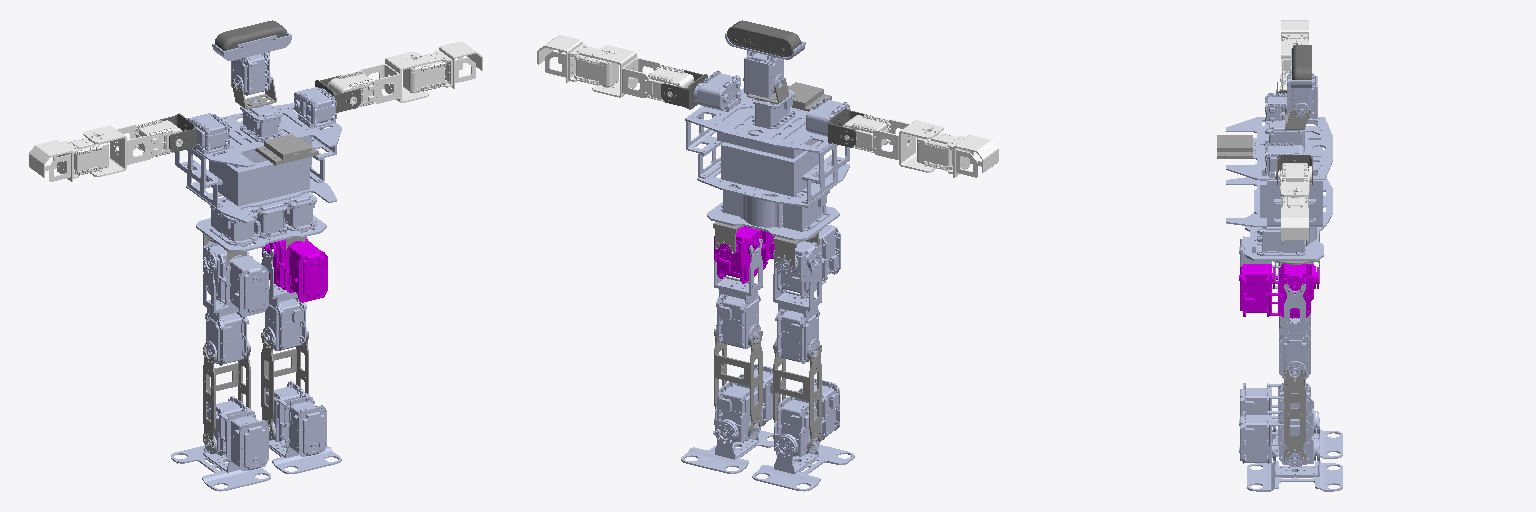
--- What the picture shows (computed from the rendered views, not written in the file) ---
3 views of the same robot in one strip: view 1: azimuth 30°, elevation 25°; view 2: azimuth 150°, elevation 25°; view 3: azimuth 270°, elevation 25° (orthographic).
Robot: robot305_description_imu — 25 links, 24 joints (21 revolute, 3 fixed); root link world; default pose: every joint at zero.
Visible links, largest first — view 1: BODY, WAIST, L_ANK_PITCH, R_ANK_PITCH, L_HIP_ROLL, L_SHO_ROLL, R_HIP_ROLL, R_SHO_ROLL, L_HIP_PITCH, L_EL, R_HIP_PITCH, R_EL (+10 smaller); view 2: BODY, WAIST, L_HIP_PITCH, R_HIP_PITCH, L_ANK_PITCH, L_SHO_ROLL, R_SHO_ROLL, L_EL, R_ANK_PITCH, L_HIP_ROLL, R_EL, L_ANK_ROLL (+11 smaller); view 3: BODY, R_HIP_ROLL, R_ANK_PITCH, R_HIP_PITCH, WAIST, R_ANK_ROLL, L_ANK_PITCH, R_KNEE, R_EL, HEAD_TILT, R_SHO_ROLL, IMU (+4 smaller).
Boxes of the visible links, x1,y1,x2,y2 form: BODY: (175, 87, 341, 222); WAIST: (196, 192, 326, 251); L_ANK_PITCH: (204, 396, 268, 470); R_ANK_PITCH: (262, 381, 326, 456); L_HIP_ROLL: (203, 241, 268, 316); L_SHO_ROLL: (83, 120, 182, 176); R_HIP_ROLL: (262, 237, 327, 302); R_SHO_ROLL: (327, 52, 428, 106); L_HIP_PITCH: (203, 255, 249, 365); L_EL: (29, 136, 108, 181); R_HIP_PITCH: (261, 247, 307, 350); R_EL: (403, 41, 482, 93); BODY: (685, 70, 850, 206); WAIST: (707, 183, 839, 240); L_HIP_PITCH: (773, 253, 821, 363); R_HIP_PITCH: (714, 239, 762, 348); L_ANK_PITCH: (774, 379, 839, 456); L_SHO_ROLL: (841, 114, 943, 172); R_SHO_ROLL: (592, 45, 693, 101); L_EL: (917, 131, 998, 177); R_ANK_PITCH: (715, 364, 780, 441); L_HIP_ROLL: (774, 225, 840, 298); R_EL: (537, 35, 618, 87); L_ANK_ROLL: (752, 443, 854, 491); BODY: (1226, 93, 1332, 226); R_HIP_ROLL: (1239, 263, 1318, 317); R_ANK_PITCH: (1239, 410, 1318, 466); R_HIP_PITCH: (1279, 284, 1310, 379); WAIST: (1245, 213, 1323, 260); R_ANK_ROLL: (1247, 444, 1342, 491); L_ANK_PITCH: (1239, 383, 1318, 433); R_KNEE: (1284, 369, 1305, 459); R_EL: (1281, 192, 1308, 242); HEAD_TILT: (1287, 49, 1317, 118); R_SHO_ROLL: (1275, 163, 1311, 207); IMU: (1217, 135, 1252, 158).
Bounding box of the posed robot: 0.6103 × 0.1598 × 0.5658 m (x, y, z).
24 mesh visuals loaded from 24 distinct referenced files (24 binary STL).

robot.urdf — robot305_description_imu:
<?xml version="1.0" encoding="utf-8"?>
<!-- This URDF was automatically created by SolidWorks to URDF Exporter! Originally created by Stephen Brawner ([email redacted]) 
     Commit Version: 1.6.0-4-g7f85cfe  Build Version: 1.6.7995.38578
     For more information, please see http://wiki.ros.org/sw_urdf_exporter -->
<robot
  name="robot305_description_imu">
  <link name="world">
  </link>

  <joint name="world_fixed" type="fixed">
    <origin xyz="0 0 0" rpy="0 0 1.5708"/>
    <parent link="world"/>
    <child link="BODY"/>
  </joint>
  <link
    name="BODY">
    <inertial>
      <origin
        xyz="-0.0089014 8.8594E-06 0.046409"
        rpy="0 0 0" />
      <mass
        value="0.68737" />
      <inertia
        ixx="0.001"
        ixy="0.0"
        ixz="0.0"
        iyy="0.001"
        iyz="0.0"
        izz="0.001" />
    </inertial>
    <visual>
      <origin
        xyz="0 0 0"
        rpy="0 0 0" />
      <geometry>
        <mesh
          filename="package://robot305_description_imu/meshes/BODY.STL" />
      </geometry>
      <material
        name="">
        <color
          rgba="0.79216 0.81961 0.93333 1" />
      </material>
    </visual>
    <collision>
      <origin
        xyz="0 0 0"
        rpy="0 0 0" />
      <geometry>
        <mesh
          filename="package://robot305_description_imu/meshes/BODY.STL" />
      </geometry>
    </collision>
  </link>
  <link
    name="HEAD_PAN">
    <inertial>
      <origin
        xyz="0.00203856931487195 3.20934481125238E-15 0.00805568439980883"
        rpy="0 0 0" />
      <mass
        value="0.00884401300499875" />
      <inertia
        ixx="0.001"
        ixy="0.0"
        ixz="0.0"
        iyy="0.001"
        iyz="0.0"
        izz="0.001" />
    </inertial>
    <visual>
      <origin
        xyz="0 0 0"
        rpy="0 0 0" />
      <geometry>
        <mesh
          filename="package://robot305_description_imu/meshes/HEAD_PAN.STL" />
      </geometry>
      <material
        name="">
        <color
          rgba="0.698039215686274 0.698039215686274 0.698039215686274 1" />
      </material>
    </visual>
    <collision>
      <origin
        xyz="0 0 0"
        rpy="0 0 0" />
      <geometry>
        <mesh
          filename="package://robot305_description_imu/meshes/HEAD_PAN.STL" />
      </geometry>
    </collision>
  </link>
  <joint
    name="head_pan"
    type="revolute">
    <origin
      xyz="0 0 0.1088"
      rpy="0 0 0" />
    <parent
      link="BODY" />
    <child
      link="HEAD_PAN" />
    <axis
      xyz="0 0 1" />
    <limit
      lower="-2.8274"
      upper="2.8274"
      effort="1000"
      velocity="100" />
    <dynamics
      damping="0.1"
      friction="0" />
  </joint>
  <link
    name="HEAD_TILT">
    <inertial>
      <origin
        xyz="0.000744248588642908 0.000567055400995601 0.0165302540119616"
        rpy="0 0 0" />
      <mass
        value="0.0589790620071985" />
      <inertia
        ixx="0.001"
        ixy="0.0"
        ixz="0.0"
        iyy="0.001"
        iyz="0.0"
        izz="0.001" />
    </inertial>
    <visual>
      <origin
        xyz="0 0 0"
        rpy="0 0 0" />
      <geometry>
        <mesh
          filename="package://robot305_description_imu/meshes/HEAD_TILT.STL" />
      </geometry>
      <material
        name="">
        <color
          rgba="0.792156862745098 0.819607843137255 0.933333333333333 1" />
      </material>
    </visual>
    <collision>
      <origin
        xyz="0 0 0"
        rpy="0 0 0" />
      <geometry>
        <mesh
          filename="package://robot305_description_imu/meshes/HEAD_TILT.STL" />
      </geometry>
    </collision>
  </link>
  <joint
    name="head_tilt"
    type="revolute">
    <origin
      xyz="0.008 0 0.0256"
      rpy="0 0 0" />
    <parent
      link="HEAD_PAN" />
    <child
      link="HEAD_TILT" />
    <axis
      xyz="0 1 0" />
    <limit
      lower="-2.8274"
      upper="2.8274"
      effort="1000"
      velocity="100" />
    <dynamics
      damping="0.1"
      friction="0" />
  </joint>
  <link
    name="Intel_D435i">
    <inertial>
      <origin
        xyz="5.86984459334042E-05 2.77438074049177E-05 2.77555756156289E-17"
        rpy="0 0 0" />
      <mass
        value="0.29999985584757" />
      <inertia
        ixx="0.001"
        ixy="0.0"
        ixz="0.0"
        iyy="0.001"
        iyz="0.0"
        izz="0.001" />
    </inertial>
    <visual>
      <origin
        xyz="0 0 0"
        rpy="0 0 0" />
      <geometry>
        <mesh
          filename="package://robot305_description_imu/meshes/Intel_D435i.STL" />
      </geometry>
      <material
        name="">
        <color
          rgba="0.501960784313725 0.501960784313725 0.501960784313725 1" />
      </material>
    </visual>
    <collision>
      <origin
        xyz="0 0 0"
        rpy="0 0 0" />
      <geometry>
        <mesh
          filename="package://robot305_description_imu/meshes/Intel_D435i.STL" />
      </geometry>
    </collision>
  </link>
  <joint
    name="d435i"
    type="fixed">
    <origin
      xyz="0.001 0.0008 0.0547"
      rpy="0 0 0" />
    <parent
      link="HEAD_TILT" />
    <child
      link="Intel_D435i" />
    <axis
      xyz="0 0 0" />
  </joint>
  <link
    name="L_SHO_PITCH">
    <inertial>
      <origin
        xyz="-0.000105678428481914 0.0103311284711402 0.000104281763278563"
        rpy="0 0 0" />
      <mass
        value="0.0170198320073435" />
      <inertia
        ixx="0.001"
        ixy="0.0"
        ixz="0.0"
        iyy="0.001"
        iyz="0.0"
        izz="0.001" />
    </inertial>
    <visual>
      <origin
        xyz="0 0 0"
        rpy="0 0 0" />
      <geometry>
        <mesh
          filename="package://robot305_description_imu/meshes/L_SHO_PITCH.STL" />
      </geometry>
      <material
        name="">
        <color
          rgba="0.501960784313725 0.501960784313725 0.501960784313725 1" />
      </material>
    </visual>
    <collision>
      <origin
        xyz="0 0 0"
        rpy="0 0 0" />
      <geometry>
        <mesh
          filename="package://robot305_description_imu/meshes/L_SHO_PITCH.STL" />
      </geometry>
    </collision>
  </link>
  <joint
    name="l_sho_pitch"
    type="revolute">
    <origin
      xyz="0 0.09514 0.093"
      rpy="0 0 0" />
    <parent
      link="BODY" />
    <child
      link="L_SHO_PITCH" />
    <axis
      xyz="0 -1 0" />
    <limit
      lower="-2.8274"
      upper="2.8274"
      effort="1000"
      velocity="100" />
    <dynamics
      damping="0.1"
      friction="0" />
  </joint>
  <link
    name="L_SHO_ROLL">
    <inertial>
      <origin
        xyz="0.000660305859717175 0.0273638889981238 -3.32496535014604E-05"
        rpy="0 0 0" />
      <mass
        value="0.0571649744384682" />
      <inertia
        ixx="0.001"
        ixy="0.0"
        ixz="0.0"
        iyy="0.001"
        iyz="0.0"
        izz="0.001" />
    </inertial>
    <visual>
      <origin
        xyz="0 0 0"
        rpy="0 0 0" />
      <geometry>
        <mesh
          filename="package://robot305_description_imu/meshes/L_SHO_ROLL.STL" />
      </geometry>
      <material
        name="">
        <color
          rgba="1 1 1 1" />
      </material>
    </visual>
    <collision>
      <origin
        xyz="0 0 0"
        rpy="0 0 0" />
      <geometry>
        <mesh
          filename="package://robot305_description_imu/meshes/L_SHO_ROLL.STL" />
      </geometry>
    </collision>
  </link>
  <joint
    name="l_sho_roll"
    type="revolute">
    <origin
      xyz="0 0.026 0"
      rpy="0 0 0" />
    <parent
      link="L_SHO_PITCH" />
    <child
      link="L_SHO_ROLL" />
    <axis
      xyz="1 0 0" />
    <limit
      lower="-2.8274"
      upper="2.8274"
      effort="1000"
      velocity="100" />
    <dynamics
      damping="0.1"
      friction="0" />
  </joint>
  <link
    name="L_EL">
    <inertial>
      <origin
        xyz="2.24244067219088E-05 0.022414568729119 0.00164214618288078"
        rpy="0 0 0" />
      <mass
        value="0.0564633803591698" />
      <inertia
        ixx="0.001"
        ixy="0.0"
        ixz="0.0"
        iyy="0.001"
        iyz="0.0"
        izz="0.001" />
    </inertial>
    <visual>
      <origin
        xyz="0 0 0"
        rpy="0 0 0" />
      <geometry>
        <mesh
          filename="package://robot305_description_imu/meshes/L_EL.STL" />
      </geometry>
      <material
        name="">
        <color
          rgba="1 1 1 1" />
      </material>
    </visual>
    <collision>
      <origin
        xyz="0 0 0"
        rpy="0 0 0" />
      <geometry>
        <mesh
          filename="package://robot305_description_imu/meshes/L_EL.STL" />
      </geometry>
    </collision>
  </link>
  <joint
    name="l_el"
    type="revolute">
    <origin
      xyz="6E-05 0.099 0"
      rpy="0 0 0" />
    <parent
      link="L_SHO_ROLL" />
    <child
      link="L_EL" />
    <axis
      xyz="0 0 -1" />
    <limit
      lower="-2.8274"
      upper="2.8274"
      effort="1000"
      velocity="100" />
    <dynamics
      damping="0.1"
      friction="0" />
  </joint>
  <link
    name="R_SHO_PITCH">
    <inertial>
      <origin
        xyz="-0.000104621547146841 -0.0103311265166709 0.000104270870135023"
        rpy="0 0 0" />
      <mass
        value="0.0170198425040673" />
      <inertia
        ixx="0.001"
        ixy="0.0"
        ixz="0.0"
        iyy="0.001"
        iyz="0.0"
        izz="0.001" />
    </inertial>
    <visual>
      <origin
        xyz="0 0 0"
        rpy="0 0 0" />
      <geometry>
        <mesh
          filename="package://robot305_description_imu/meshes/R_SHO_PITCH.STL" />
      </geometry>
      <material
        name="">
        <color
          rgba="0.501960784313725 0.501960784313725 0.501960784313725 1" />
      </material>
    </visual>
    <collision>
      <origin
        xyz="0 0 0"
        rpy="0 0 0" />
      <geometry>
        <mesh
          filename="package://robot305_description_imu/meshes/R_SHO_PITCH.STL" />
      </geometry>
    </collision>
  </link>
  <joint
    name="r_sho_pitch"
    type="revolute">
    <origin
      xyz="0 -0.09514 0.093"
      rpy="0 0 0" />
    <parent
      link="BODY" />
    <child
      link="R_SHO_PITCH" />
    <axis
      xyz="0 -1 0" />
    <limit
      lower="-2.8274"
      upper="2.8274"
      effort="1000"
      velocity="100" />
    <dynamics
      damping="0.1"
      friction="0" />
  </joint>
  <link
    name="R_SHO_ROLL">
    <inertial>
      <origin
        xyz="0.000660305859719581 -0.0273638889976491 1.1047673555642E-05"
        rpy="0 0 0" />
      <mass
        value="0.0571649744384682" />
      <inertia
        ixx="0.001"
        ixy="0.0"
        ixz="0.0"
        iyy="0.001"
        iyz="0.0"
        izz="0.001" />
    </inertial>
    <visual>
      <origin
        xyz="0 0 0"
        rpy="0 0 0" />
      <geometry>
        <mesh
          filename="package://robot305_description_imu/meshes/R_SHO_ROLL.STL" />
      </geometry>
      <material
        name="">
        <color
          rgba="1 1 1 1" />
      </material>
    </visual>
    <collision>
      <origin
        xyz="0 0 0"
        rpy="0 0 0" />
      <geometry>
        <mesh
          filename="package://robot305_description_imu/meshes/R_SHO_ROLL.STL" />
      </geometry>
    </collision>
  </link>
  <joint
    name="r_sho_roll"
    type="revolute">
    <origin
      xyz="0 -0.026 0"
      rpy="0 0 0" />
    <parent
      link="R_SHO_PITCH" />
    <child
      link="R_SHO_ROLL" />
    <axis
      xyz="1 0 0" />
    <limit
      lower="-2.8274"
      upper="2.8274"
      effort="1000"
      velocity="100" />
    <dynamics
      damping="0.1"
      friction="0" />
  </joint>
  <link
    name="R_EL">
    <inertial>
      <origin
        xyz="-2.24240727187515E-05 -0.0224145687294529 0.00164214618288087"
        rpy="0 0 0" />
      <mass
        value="0.0564633803591696" />
      <inertia
        ixx="0.001"
        ixy="0.0"
        ixz="0.0"
        iyy="0.001"
        iyz="0.0"
        izz="0.001" />
    </inertial>
    <visual>
      <origin
        xyz="0 0 0"
        rpy="0 0 0" />
      <geometry>
        <mesh
          filename="package://robot305_description_imu/meshes/R_EL.STL" />
      </geometry>
      <material
        name="">
        <color
          rgba="1 1 1 1" />
      </material>
    </visual>
    <collision>
      <origin
        xyz="0 0 0"
        rpy="0 0 0" />
      <geometry>
        <mesh
          filename="package://robot305_description_imu/meshes/R_EL.STL" />
      </geometry>
    </collision>
  </link>
  <joint
    name="r_el"
    type="revolute">
    <origin
      xyz="6E-05 -0.099 0"
      rpy="0 0 0" />
    <parent
      link="R_SHO_ROLL" />
    <child
      link="R_EL" />
    <axis
      xyz="0 0 -1" />
    <limit
      lower="-2.8274"
      upper="2.8274"
      effort="1000"
      velocity="100" />
    <dynamics
      damping="0.1"
      friction="0" />
  </joint>
  <link
    name="WAIST">
    <inertial>
      <origin
        xyz="-0.023228 -1.6764E-07 -0.032821"
        rpy="0 0 0" />
      <mass
        value="0.25814" />
      <inertia
        ixx="0.001"
        ixy="0.0"
        ixz="0.0"
        iyy="0.001"
        iyz="0.0"
        izz="0.001" />
    </inertial>
    <visual>
      <origin
        xyz="0 0 0"
        rpy="0 0 0" />
      <geometry>
        <mesh
          filename="package://robot305_description_imu/meshes/WAIST.STL" />
      </geometry>
      <material
        name="">
        <color
          rgba="0.79216 0.81961 0.93333 1" />
      </material>
    </visual>
    <collision>
      <origin
        xyz="0 0 0"
        rpy="0 0 0" />
      <geometry>
        <mesh
          filename="package://robot305_description_imu/meshes/WAIST.STL" />
      </geometry>
    </collision>
  </link>
  <joint
    name="waist"
    type="revolute">
    <origin
      xyz="0.01 0 0"
      rpy="0 0 0" />
    <parent
      link="BODY" />
    <child
      link="WAIST" />
    <axis
      xyz="0 0 1" />
    <limit
      lower="-2.8274"
      upper="2.8274"
      effort="1000"
      velocity="100" />
    <dynamics
      damping="0.1"
      friction="0" />
  </joint>
  <link
    name="L_HIP_YAW">
    <inertial>
      <origin
        xyz="0.0020262 -6.8547E-13 -0.0089335"
        rpy="0 0 0" />
      <mass
        value="0.022437" />
      <inertia
        ixx="0.001"
        ixy="0.0"
        ixz="0.0"
        iyy="0.001"
        iyz="0.0"
        izz="0.001" />
    </inertial>
    <visual>
      <origin
        xyz="0 0 0"
        rpy="0 0 0" />
      <geometry>
        <mesh
          filename="package://robot305_description_imu/meshes/L_HIP_YAW.STL" />
      </geometry>
      <material
        name="">
        <color
          rgba="0.69804 0.69804 0.69804 1" />
      </material>
    </visual>
    <collision>
      <origin
        xyz="0 0 0"
        rpy="0 0 0" />
      <geometry>
        <mesh
          filename="package://robot305_description_imu/meshes/L_HIP_YAW.STL" />
      </geometry>
    </collision>
  </link>
  <joint
    name="l_hip_yaw"
    type="revolute">
    <origin
      xyz="-0.01 0.041 -0.0537"
      rpy="0 0 0" />
    <parent
      link="WAIST" />
    <child
      link="L_HIP_YAW" />
    <axis
      xyz="0 0 1" />
    <limit
      lower="-2.8274"
      upper="2.8274"
      effort="1000"
      velocity="100" />
    <dynamics
      damping="0.1"
      friction="0" />
  </joint>
  <link
    name="L_HIP_ROLL">
    <inertial>
      <origin
        xyz="-0.022368 -4.6127E-05 -0.014708"
        rpy="0 0 0" />
      <mass
        value="0.15426" />
      <inertia
        ixx="0.001"
        ixy="0.0"
        ixz="0.0"
        iyy="0.001"
        iyz="0.0"
        izz="0.001" />
    </inertial>
    <visual>
      <origin
        xyz="0 0 0"
        rpy="0 0 0" />
      <geometry>
        <mesh
          filename="package://robot305_description_imu/meshes/L_HIP_ROLL.STL" />
      </geometry>
      <material
        name="">
        <color
          rgba="0.79216 0.81961 0.93333 1" />
      </material>
    </visual>
    <collision>
      <origin
        xyz="0 0 0"
        rpy="0 0 0" />
      <geometry>
        <mesh
          filename="package://robot305_description_imu/meshes/L_HIP_ROLL.STL" />
      </geometry>
    </collision>
  </link>
  <joint
    name="l_hip_roll"
    type="revolute">
    <origin
      xyz="0 0 -0.0345"
      rpy="0 0 0" />
    <parent
      link="L_HIP_YAW" />
    <child
      link="L_HIP_ROLL" />
    <axis
      xyz="1 0 0" />
    <limit
      lower="-2.8274"
      upper="2.8274"
      effort="1000"
      velocity="100" />
    <dynamics
      damping="0.1"
      friction="0" />
  </joint>
  <link
    name="L_HIP_PITCH">
    <inertial>
      <origin
        xyz="-3.436E-06 -0.00020124 -0.09746"
        rpy="0 0 0" />
      <mass
        value="0.085906" />
      <inertia
        ixx="0.001"
        ixy="0.0"
        ixz="0.0"
        iyy="0.001"
        iyz="0.0"
        izz="0.001" />
    </inertial>
    <visual>
      <origin
        xyz="0 0 0"
        rpy="0 0 0" />
      <geometry>
        <mesh
          filename="package://robot305_description_imu/meshes/L_HIP_PITCH.STL" />
      </geometry>
      <material
        name="">
        <color
          rgba="0.79216 0.81961 0.93333 1" />
      </material>
    </visual>
    <collision>
      <origin
        xyz="0 0 0"
        rpy="0 0 0" />
      <geometry>
        <mesh
          filename="package://robot305_description_imu/meshes/L_HIP_PITCH.STL" />
      </geometry>
    </collision>
  </link>
  <joint
    name="l_hip_pitch"
    type="revolute">
    <origin
      xyz="0 0 0"
      rpy="0 0 0.01704" />
    <parent
      link="L_HIP_ROLL" />
    <child
      link="L_HIP_PITCH" />
    <axis
      xyz="0.017039 0.99985 0" />
    <limit
      lower="-2.8274"
      upper="2.8274"
      effort="1000"
      velocity="100" />
    <dynamics
      damping="0.1"
      friction="0" />
  </joint>
  <link
    name="L_KNEE">
    <inertial>
      <origin
        xyz="0.0021571 -0.0004 -0.057639"
        rpy="0 0 0" />
      <mass
        value="0.03206" />
      <inertia
        ixx="0.001"
        ixy="0.0"
        ixz="0.0"
        iyy="0.001"
        iyz="0.0"
        izz="0.001" />
    </inertial>
    <visual>
      <origin
        xyz="0 0 0"
        rpy="0 0 0" />
      <geometry>
        <mesh
          filename="package://robot305_description_imu/meshes/L_KNEE.STL" />
      </geometry>
      <material
        name="">
        <color
          rgba="0.69804 0.69804 0.69804 1" />
      </material>
    </visual>
    <collision>
      <origin
        xyz="0 0 0"
        rpy="0 0 0" />
      <geometry>
        <mesh
          filename="package://robot305_description_imu/meshes/L_KNEE.STL" />
      </geometry>
    </collision>
  </link>
  <joint
    name="l_knee"
    type="revolute">
    <origin
      xyz="0 0 -0.12"
      rpy="0 0 -0.01704" />
    <parent
      link="L_HIP_PITCH" />
    <child
      link="L_KNEE" />
    <axis
      xyz="0 -1 0" />
    <limit
      lower="-2.8274"
      upper="2.8274"
      effort="1000"
      velocity="100" />
    <dynamics
      damping="0.1"
      friction="0" />
  </joint>
  <link
    name="L_ANK_PITCH">
    <inertial>
      <origin
        xyz="-0.022368 -0.00025407 0.014708"
        rpy="0 0 0" />
      <mass
        value="0.15426" />
      <inertia
        ixx="0.001"
        ixy="0.0"
        ixz="0.0"
        iyy="0.001"
        iyz="0.0"
        izz="0.001" />
    </inertial>
    <visual>
      <origin
        xyz="0 0 0"
        rpy="0 0 0" />
      <geometry>
        <mesh
          filename="package://robot305_description_imu/meshes/L_ANK_PITCH.STL" />
      </geometry>
      <material
        name="">
        <color
          rgba="0.79216 0.81961 0.93333 1" />
      </material>
    </visual>
    <collision>
      <origin
        xyz="0 0 0"
        rpy="0 0 0" />
      <geometry>
        <mesh
          filename="package://robot305_description_imu/meshes/L_ANK_PITCH.STL" />
      </geometry>
    </collision>
  </link>
  <joint
    name="l_ank_pitch"
    type="revolute">
    <origin
      xyz="0 0 -0.12"
      rpy="0 0 0" />
    <parent
      link="L_KNEE" />
    <child
      link="L_ANK_PITCH" />
    <axis
      xyz="0 1 0" />
    <limit
      lower="-2.8274"
      upper="2.8274"
      effort="1000"
      velocity="100" />
    <dynamics
      damping="0.1"
      friction="0" />
  </joint>
  <link
    name="L_ANK_ROLL">
    <inertial>
      <origin
        xyz="0.00024893 0.004754 -0.030898"
        rpy="0 0 0" />
      <mass
        value="0.018474" />
      <inertia
        ixx="0.001"
        ixy="0.0"
        ixz="0.0"
        iyy="0.001"
        iyz="0.0"
        izz="0.001" />
    </inertial>
    <visual>
      <origin
        xyz="0 0 0"
        rpy="0 0 0" />
      <geometry>
        <mesh
          filename="package://robot305_description_imu/meshes/L_ANK_ROLL.STL" />
      </geometry>
      <material
        name="">
        <color
          rgba="0.79216 0.81961 0.93333 1" />
      </material>
    </visual>
    <collision>
      <origin
        xyz="0 0 0"
        rpy="0 0 0" />
      <geometry>
        <mesh
          filename="package://robot305_description_imu/meshes/L_ANK_ROLL.STL" />
      </geometry>
    </collision>
  </link>
  <joint
    name="l_ank_roll"
    type="revolute">
    <origin
      xyz="0 0 0"
      rpy="0 0 0" />
    <parent
      link="L_ANK_PITCH" />
    <child
      link="L_ANK_ROLL" />
    <axis
      xyz="1 0 0" />
    <limit
      lower="-2.8274"
      upper="2.8274"
      effort="1000"
      velocity="100" />
    <dynamics
      damping="0.1"
      friction="0" />
  </joint>
  <link
    name="R_HIP_YAW">
    <inertial>
      <origin
        xyz="0.0020262 -6.8548E-13 -0.0089335"
        rpy="0 0 0" />
      <mass
        value="0.022437" />
      <inertia
        ixx="0.001"
        ixy="0.0"
        ixz="0.0"
        iyy="0.001"
        iyz="0.0"
        izz="0.001" />
    </inertial>
    <visual>
      <origin
        xyz="0 0 0"
        rpy="0 0 0" />
      <geometry>
        <mesh
          filename="package://robot305_description_imu/meshes/R_HIP_YAW.STL" />
      </geometry>
      <material
        name="">
        <color
          rgba="0.69804 0.69804 0.69804 1" />
      </material>
    </visual>
    <collision>
      <origin
        xyz="0 0 0"
        rpy="0 0 0" />
      <geometry>
        <mesh
          filename="package://robot305_description_imu/meshes/R_HIP_YAW.STL" />
      </geometry>
    </collision>
  </link>
  <joint
    name="r_hip_yaw"
    type="revolute">
    <origin
      xyz="-0.01 -0.041 -0.0537"
      rpy="0 0 0" />
    <parent
      link="WAIST" />
    <child
      link="R_HIP_YAW" />
    <axis
      xyz="0 0 1" />
    <limit
      lower="-2.8274"
      upper="2.8274"
      effort="1000"
      velocity="100" />
    <dynamics
      damping="0.1"
      friction="0" />
  </joint>
  <link
    name="R_HIP_ROLL">
    <inertial>
      <origin
        xyz="-0.022368 4.6168E-05 -0.014708"
        rpy="0 0 0" />
      <mass
        value="0.15426" />
      <inertia
        ixx="0.001"
        ixy="0.0"
        ixz="0.0"
        iyy="0.001"
        iyz="0.0"
        izz="0.001" />
    </inertial>
    <visual>
      <origin
        xyz="0 0 0"
        rpy="0 0 0" />
      <geometry>
        <mesh
          filename="package://robot305_description_imu/meshes/R_HIP_ROLL.STL" />
      </geometry>
      <material
        name="">
        <color
          rgba="0.9098 0 1 1" />
      </material>
    </visual>
    <collision>
      <origin
        xyz="0 0 0"
        rpy="0 0 0" />
      <geometry>
        <mesh
          filename="package://robot305_description_imu/meshes/R_HIP_ROLL.STL" />
      </geometry>
    </collision>
  </link>
  <joint
    name="r_hip_roll"
    type="revolute">
    <origin
      xyz="0 0 -0.0345"
      rpy="0 0 0" />
    <parent
      link="R_HIP_YAW" />
    <child
      link="R_HIP_ROLL" />
    <axis
      xyz="1 0 0" />
    <limit
      lower="-2.8274"
      upper="2.8274"
      effort="1000"
      velocity="100" />
    <dynamics
      damping="0.1"
      friction="0" />
  </joint>
  <link
    name="R_HIP_PITCH">
    <inertial>
      <origin
        xyz="-3.4229E-06 0.00020124 -0.09746"
        rpy="0 0 0" />
      <mass
        value="0.085906" />
      <inertia
        ixx="0.001"
        ixy="0.0"
        ixz="0.0"
        iyy="0.001"
        iyz="0.0"
        izz="0.001" />
    </inertial>
    <visual>
      <origin
        xyz="0 0 0"
        rpy="0 0 0" />
      <geometry>
        <mesh
          filename="package://robot305_description_imu/meshes/R_HIP_PITCH.STL" />
      </geometry>
      <material
        name="">
        <color
          rgba="0.79216 0.81961 0.93333 1" />
      </material>
    </visual>
    <collision>
      <origin
        xyz="0 0 0"
        rpy="0 0 0" />
      <geometry>
        <mesh
          filename="package://robot305_description_imu/meshes/R_HIP_PITCH.STL" />
      </geometry>
    </collision>
  </link>
  <joint
    name="r_hip_pitch"
    type="revolute">
    <origin
      xyz="0 0 0"
      rpy="0 0 -0.01704" />
    <parent
      link="R_HIP_ROLL" />
    <child
      link="R_HIP_PITCH" />
    <axis
      xyz="-0.017039 0.99985 0" />
    <limit
      lower="-2.8274"
      upper="2.8274"
      effort="1000"
      velocity="100" />
    <dynamics
      damping="0.1"
      friction="0" />
  </joint>
  <link
    name="R_KNEE">
    <inertial>
      <origin
        xyz="0.0021571 0.0004 -0.057639"
        rpy="0 0 0" />
      <mass
        value="0.03206" />
      <inertia
        ixx="0.001"
        ixy="0.0"
        ixz="0.0"
        iyy="0.001"
        iyz="0.0"
        izz="0.001" />
    </inertial>
    <visual>
      <origin
        xyz="0 0 0"
        rpy="0 0 0" />
      <geometry>
        <mesh
          filename="package://robot305_description_imu/meshes/R_KNEE.STL" />
      </geometry>
      <material
        name="">
        <color
          rgba="0.69804 0.69804 0.69804 1" />
      </material>
    </visual>
    <collision>
      <origin
        xyz="0 0 0"
        rpy="0 0 0" />
      <geometry>
        <mesh
          filename="package://robot305_description_imu/meshes/R_KNEE.STL" />
      </geometry>
    </collision>
  </link>
  <joint
    name="r_knee"
    type="revolute">
    <origin
      xyz="0 0 -0.12"
      rpy="0 0 0.01704" />
    <parent
      link="R_HIP_PITCH" />
    <child
      link="R_KNEE" />
    <axis
      xyz="0 -1 0" />
    <limit
      lower="-2.8274"
      upper="2.8274"
      effort="1000"
      velocity="100" />
    <dynamics
      damping="0.1"
      friction="0" />
  </joint>
  <link
    name="R_ANK_PITCH">
    <inertial>
      <origin
        xyz="-0.022368 0.00024661 0.014708"
        rpy="0 0 0" />
      <mass
        value="0.15426" />
      <inertia
        ixx="0.001"
        ixy="0.0"
        ixz="0.0"
        iyy="0.001"
        iyz="0.0"
        izz="0.001" />
    </inertial>
    <visual>
      <origin
        xyz="0 0 0"
        rpy="0 0 0" />
      <geometry>
        <mesh
          filename="package://robot305_description_imu/meshes/R_ANK_PITCH.STL" />
      </geometry>
      <material
        name="">
        <color
          rgba="0.79216 0.81961 0.93333 1" />
      </material>
    </visual>
    <collision>
      <origin
        xyz="0 0 0"
        rpy="0 0 0" />
      <geometry>
        <mesh
          filename="package://robot305_description_imu/meshes/R_ANK_PITCH.STL" />
      </geometry>
    </collision>
  </link>
  <joint
    name="r_ank_pitch"
    type="revolute">
    <origin
      xyz="0 0 -0.12"
      rpy="0 0 0" />
    <parent
      link="R_KNEE" />
    <child
      link="R_ANK_PITCH" />
    <axis
      xyz="0 -1 0" />
    <limit
      lower="-2.8274"
      upper="2.8274"
      effort="1000"
      velocity="100" />
    <dynamics
      damping="0.1"
      friction="0" />
  </joint>
  <link
    name="R_ANK_ROLL">
    <inertial>
      <origin
        xyz="0.00024893 -0.004954 -0.030898"
        rpy="0 0 0" />
      <mass
        value="0.018474" />
      <inertia
        ixx="0.001"
        ixy="0.0"
        ixz="0.0"
        iyy="0.001"
        iyz="0.0"
        izz="0.001" />
    </inertial>
    <visual>
      <origin
        xyz="0 0 0"
        rpy="0 0 0" />
      <geometry>
        <mesh
          filename="package://robot305_description_imu/meshes/R_ANK_ROLL.STL" />
      </geometry>
      <material
        name="">
        <color
          rgba="0.79216 0.81961 0.93333 1" />
      </material>
    </visual>
    <collision>
      <origin
        xyz="0 0 0"
        rpy="0 0 0" />
      <geometry>
        <mesh
          filename="package://robot305_description_imu/meshes/R_ANK_ROLL.STL" />
      </geometry>
    </collision>
  </link>
  <joint
    name="r_ank_roll"
    type="revolute">
    <origin
      xyz="0 0 0"
      rpy="0 0 0" />
    <parent
      link="R_ANK_PITCH" />
    <child
      link="R_ANK_ROLL" />
    <axis
      xyz="1 0 0" />
    <limit
      lower="-2.8274"
      upper="2.8274"
      effort="1000"
      velocity="100" />
    <dynamics
      damping="0.1"
      friction="0" />
  </joint>
  <link
    name="IMU">
    <inertial>
      <origin
        xyz="4.39830229850696E-05 -7.48016657764117E-18 0.00523062431007427"
        rpy="0 0 0" />
      <mass
        value="0.0468998869628787" />
      <inertia
        ixx="0.001"
        ixy="0.0"
        ixz="0.0"
        iyy="0.001"
        iyz="0.0"
        izz="0.001" />
    </inertial>
    <visual>
      <origin
        xyz="0 0 0"
        rpy="0 0 0" />
      <geometry>
        <mesh
          filename="package://robot305_description_imu/meshes/IMU.STL" />
      </geometry>
      <material
        name="">
        <color
          rgba="0.698039215686274 0.698039215686274 0.698039215686274 1" />
      </material>
    </visual>
    <collision>
      <origin
        xyz="0 0 0"
        rpy="0 0 0" />
      <geometry>
        <mesh
          filename="package://robot305_description_imu/meshes/IMU.STL" />
      </geometry>
    </collision>
  </link>
  <joint
    name="imu"
    type="fixed">
    <origin
      xyz="-0.076 0 0.072"
      rpy="0 0 0" />
    <parent
      link="BODY" />
    <child
      link="IMU" />
    <axis
      xyz="0 0 0" />
  </joint>

<gazebo>
    <plugin filename="libgazebo_ros_control.so" name="gazebo_ros_control">
      <robotNamespace>/robot305</robotNamespace>
    </plugin>
  </gazebo>




   <transmission name="t_head_pan">
    <type>transmission_interface/SimpleTransmission</type>
    <joint name="head_pan">
      <hardwareInterface>hardware_interface/EffortJointInterface</hardwareInterface>
    </joint>
    <actuator name="m_head_pan">
      <hardwareInterface>hardware_interface/EffortJointInterface</hardwareInterface>
      <mechanicalReduction>1</mechanicalReduction>
    </actuator>
  </transmission>


   <transmission name="t_head_tilt">
    <type>transmission_interface/SimpleTransmission</type>
    <joint name="head_tilt">
      <hardwareInterface>hardware_interface/EffortJointInterface</hardwareInterface>
    </joint>
    <actuator name="m_head_tilt">
      <hardwareInterface>hardware_interface/EffortJointInterface</hardwareInterface>
      <mechanicalReduction>1</mechanicalReduction>
    </actuator>
  </transmission>


   <transmission name="t_l_sho_pitch">
    <type>transmission_interface/SimpleTransmission</type>
    <joint name="l_sho_pitch">
      <hardwareInterface>hardware_interface/EffortJointInterface</hardwareInterface>
    </joint>
    <actuator name="m_l_sho_pitch">
      <hardwareInterface>hardware_interface/EffortJointInterface</hardwareInterface>
      <mechanicalReduction>1</mechanicalReduction>
    </actuator>
  </transmission>


   <transmission name="t_l_sho_roll">
    <type>transmission_interface/SimpleTransmission</type>
    <joint name="l_sho_roll">
      <hardwareInterface>hardware_interface/EffortJointInterface</hardwareInterface>
    </joint>
    <actuator name="m_l_sho_roll">
      <hardwareInterface>hardware_interface/EffortJointInterface</hardwareInterface>
      <mechanicalReduction>1</mechanicalReduction>
    </actuator>
  </transmission>


   <transmission name="t_l_el">
    <type>transmission_interface/SimpleTransmission</type>
    <joint name="l_el">
      <hardwareInterface>hardware_interface/EffortJointInterface</hardwareInterface>
    </joint>
    <actuator name="m_l_el">
      <hardwareInterface>hardware_interface/EffortJointInterface</hardwareInterface>
      <mechanicalReduction>1</mechanicalReduction>
    </actuator>
  </transmission>


   <transmission name="t_r_sho_pitch">
    <type>transmission_interface/SimpleTransmission</type>
    <joint name="r_sho_pitch">
      <hardwareInterface>hardware_interface/EffortJointInterface</hardwareInterface>
    </joint>
    <actuator name="m_r_sho_pitch">
      <hardwareInterface>hardware_interface/EffortJointInterface</hardwareInterface>
      <mechanicalReduction>1</mechanicalReduction>
    </actuator>
  </transmission>


   <transmission name="t_r_sho_roll">
    <type>transmission_interface/SimpleTransmission</type>
    <joint name="r_sho_roll">
      <hardwareInterface>hardware_interface/EffortJointInterface</hardwareInterface>
    </joint>
    <actuator name="m_r_sho_roll">
      <hardwareInterface>hardware_interface/EffortJointInterface</hardwareInterface>
      <mechanicalReduction>1</mechanicalReduction>
    </actuator>
  </transmission>


   <transmission name="t_r_el">
    <type>transmission_interface/SimpleTransmission</type>
    <joint name="r_el">
      <hardwareInterface>hardware_interface/EffortJointInterface</hardwareInterface>
    </joint>
    <actuator name="m_r_el">
      <hardwareInterface>hardware_interface/EffortJointInterface</hardwareInterface>
      <mechanicalReduction>1</mechanicalReduction>
    </actuator>
  </transmission>


   <transmission name="t_waist">
    <type>transmission_interface/SimpleTransmission</type>
    <joint name="waist">
      <hardwareInterface>hardware_interface/EffortJointInterface</hardwareInterface>
    </joint>
    <actuator name="m_waist">
      <hardwareInterface>hardware_interface/EffortJointInterface</hardwareInterface>
      <mechanicalReduction>1</mechanicalReduction>
    </actuator>
  </transmission>


   <transmission name="t_l_hip_yaw">
    <type>transmission_interface/SimpleTransmission</type>
    <joint name="l_hip_yaw">
        <hardwareInterface>hardware_interface/EffortJointInterface</hardwareInterface>
    </joint>
    <actuator name="m_l_hip_yaw">
      <hardwareInterface>hardware_interface/EffortJointInterface</hardwareInterface>
      <mechanicalReduction>1</mechanicalReduction>
    </actuator>
  </transmission>


   <transmission name="t_l_hip_roll">
    <type>transmission_interface/SimpleTransmission</type>
    <joint name="l_hip_roll">
      <hardwareInterface>hardware_interface/EffortJointInterface</hardwareInterface>
    </joint>
    <actuator name="m_l_hip_roll">
      <hardwareInterface>hardware_interface/EffortJointInterface</hardwareInterface>
      <mechanicalReduction>1</mechanicalReduction>
    </actuator>
  </transmission>


   <transmission name="t_l_hip_pitch">
    <type>transmission_interface/SimpleTransmission</type>
    <joint name="l_hip_pitch">
      <hardwareInterface>hardware_interface/EffortJointInterface</hardwareInterface>
    </joint>
    <actuator name="m_l_hip_pitch">
      <hardwareInterface>hardware_interface/EffortJointInterface</hardwareInterface>
      <mechanicalReduction>1</mechanicalReduction>
    </actuator>
  </transmission>


   <transmission name="t_l_knee">
    <type>transmission_interface/SimpleTransmission</type>
    <joint name="l_knee">
      <hardwareInterface>hardware_interface/EffortJointInterface</hardwareInterface>
    </joint>
    <actuator name="m_l_knee">
      <hardwareInterface>hardware_interface/EffortJointInterface</hardwareInterface>
      <mechanicalReduction>1</mechanicalReduction>
    </actuator>
  </transmission>


   <transmission name="t_l_ank_pitch">
    <type>transmission_interface/SimpleTransmission</type>
    <joint name="l_ank_pitch">
      <hardwareInterface>hardware_interface/EffortJointInterface</hardwareInterface>
    </joint>
    <actuator name="m_l_ank_pitch">
      <hardwareInterface>hardware_interface/EffortJointInterface</hardwareInterface>
      <mechanicalReduction>1</mechanicalReduction>
    </actuator>
  </transmission>


   <transmission name="t_l_ank_roll">
    <type>transmission_interface/SimpleTransmission</type>
    <joint name="l_ank_roll">
      <hardwareInterface>hardware_interface/EffortJointInterface</hardwareInterface>
    </joint>
    <actuator name="m_l_ank_roll">
      <hardwareInterface>hardware_interface/EffortJointInterface</hardwareInterface>
      <mechanicalReduction>1</mechanicalReduction>
    </actuator>
  </transmission>


   <transmission name="t_r_hip_yaw">
    <type>transmission_interface/SimpleTransmission</type>
    <joint name="r_hip_yaw">
      <hardwareInterface>hardware_interface/EffortJointInterface</hardwareInterface>
    </joint>
    <actuator name="m_r_hip_yaw">
      <hardwareInterface>hardware_interface/EffortJointInterface</hardwareInterface>
      <mechanicalReduction>1</mechanicalReduction>
    </actuator>
  </transmission>


   <transmission name="t_r_hip_roll">
    <type>transmission_interface/SimpleTransmission</type>
    <joint name="r_hip_roll">
      <hardwareInterface>hardware_interface/EffortJointInterface</hardwareInterface>
    </joint>
    <actuator name="m_r_hip_roll">
      <hardwareInterface>hardware_interface/EffortJointInterface</hardwareInterface>
      <mechanicalReduction>1</mechanicalReduction>
    </actuator>
  </transmission>

  <transmission name="t_r_hip_pitch">
    <type>transmission_interface/SimpleTransmission</type>
    <joint name="r_hip_pitch">
      <hardwareInterface>hardware_interface/EffortJointInterface</hardwareInterface>
    </joint>
    <actuator name="m_r_hip_pitch">
      <hardwareInterface>hardware_interface/EffortJointInterface</hardwareInterface>
      <mechanicalReduction>1</mechanicalReduction>
    </actuator>
  </transmission>


   <transmission name="t_r_knee">
    <type>transmission_interface/SimpleTransmission</type>
    <joint name="r_knee">
      <hardwareInterface>hardware_interface/EffortJointInterface</hardwareInterface>
    </joint>
    <actuator name="m_r_knee">
      <hardwareInterface>hardware_interface/EffortJointInterface</hardwareInterface>
      <mechanicalReduction>1</mechanicalReduction>
    </actuator>
  </transmission>


   <transmission name="t_r_ank_pitch">
    <type>transmission_interface/SimpleTransmission</type>
    <joint name="r_ank_pitch">
      <hardwareInterface>hardware_interface/EffortJointInterface</hardwareInterface>
    </joint>
    <actuator name="m_r_ank_pitch">
      <hardwareInterface>hardware_interface/EffortJointInterface</hardwareInterface>
      <mechanicalReduction>1</mechanicalReduction>
    </actuator>
  </transmission>


   <transmission name="t_r_ank_roll">
    <type>transmission_interface/SimpleTransmission</type>
    <joint name="r_ank_roll">
      <hardwareInterface>hardware_interface/EffortJointInterface</hardwareInterface>
    </joint>
    <actuator name="m_r_ank_roll">
      <hardwareInterface>hardware_interface/hardware_interface/EffortJointInterface</hardwareInterface>
      <mechanicalReduction>1</mechanicalReduction>
    </actuator>
  </transmission>

<gazebo reference="BODY">
    <mu1>0.2</mu1>
    <mu2>0.2</mu2>
    <material>Gazebo/Grey</material>
    <selfCollide>false</selfCollide>
  </gazebo>

<gazebo reference="R_SHO_ROLL">
    <mu1>0.2</mu1>
    <mu2>0.2</mu2>
    <material>Gazebo/Grey</material>
    <selfCollide>false</selfCollide>
  </gazebo>

<gazebo reference="R_SHO_PITCH">
    <mu1>0.2</mu1>
    <mu2>0.2</mu2>
    <material>Gazebo/Grey</material>
    <selfCollide>false</selfCollide>
  </gazebo>

<gazebo reference="R_EL">
    <mu1>0.2</mu1>
    <mu2>0.2</mu2>
    <material>Gazebo/Grey</material>
    <selfCollide>false</selfCollide>
  </gazebo>

<gazebo reference="R_HIP_YAW">
    <mu1>0.2</mu1>
    <mu2>0.2</mu2>
    <material>Gazebo/Grey</material>
    <selfCollide>false</selfCollide>
  </gazebo>

<gazebo reference="R_HIP_ROLL">
    <mu1>0.2</mu1>
    <mu2>0.2</mu2>
    <material>Gazebo/Grey</material>
    <selfCollide>false</selfCollide>
  </gazebo>

<gazebo reference="R_HIP_ROLL">
    <mu1>0.2</mu1>
    <mu2>0.2</mu2>
    <material>Gazebo/Grey</material>
    <selfCollide>false</selfCollide>
  </gazebo>

<gazebo reference="R_KNEE">
    <mu1>0.2</mu1>
    <mu2>0.2</mu2>
    <material>Gazebo/Grey</material>
    <selfCollide>false</selfCollide>
  </gazebo>

<gazebo reference="R_ANK_PITCH">
    <mu1>0.2</mu1>
    <mu2>0.2</mu2>
    <material>Gazebo/Grey</material>
    <selfCollide>false</selfCollide>
  </gazebo>

<gazebo reference="L_SHO_ROLL">
    <mu1>0.2</mu1>
    <mu2>0.2</mu2>
    <material>Gazebo/Grey</material>
    <selfCollide>false</selfCollide>
  </gazebo>

<gazebo reference="L_SHO_PITCH">
    <mu1>0.2</mu1>
    <mu2>0.2</mu2>
    <material>Gazebo/Grey</material>
    <selfCollide>false</selfCollide>
  </gazebo>

<gazebo reference="L_EL">
    <mu1>0.2</mu1>
    <mu2>0.2</mu2>
    <material>Gazebo/Grey</material>
    <selfCollide>false</selfCollide>
  </gazebo>

<gazebo reference="L_HIP_YAW">
    <mu1>0.2</mu1>
    <mu2>0.2</mu2>
    <material>Gazebo/Grey</material>
    <selfCollide>false</selfCollide>
  </gazebo>

<gazebo reference="L_HIP_ROLL">
    <mu1>0.2</mu1>
    <mu2>0.2</mu2>
    <material>Gazebo/Grey</material>
    <selfCollide>false</selfCollide>
  </gazebo>

<gazebo reference="L_HIP_ROLL">
    <mu1>0.2</mu1>
    <mu2>0.2</mu2>
    <material>Gazebo/Grey</material>
    <selfCollide>false</selfCollide>
  </gazebo>

<gazebo reference="L_KNEE">
    <mu1>0.2</mu1>
    <mu2>0.2</mu2>
    <material>Gazebo/Grey</material>
    <selfCollide>false</selfCollide>
  </gazebo>

<gazebo reference="L_ANK_PITCH">
    <mu1>0.2</mu1>
    <mu2>0.2</mu2>
    <material>Gazebo/Grey</material>
    <selfCollide>false</selfCollide>
  </gazebo>

<gazebo reference="HEAD_TILT">
    <mu1>0.2</mu1>
    <mu2>0.2</mu2>
    <material>Gazebo/WhiteGlow</material>
    <selfCollide>false</selfCollide>
  </gazebo>

<gazebo reference="HEAD_PAN">
    <mu1>0.2</mu1>
    <mu2>0.2</mu2>
    <material>Gazebo/Grey</material>
    <selfCollide>false</selfCollide>
  </gazebo>

<gazebo reference="WAIST">
    <mu1>0.2</mu1>
    <mu2>0.2</mu2>
    <material>Gazebo/White</material>
    <selfCollide>false</selfCollide>
  </gazebo>

<gazebo reference="L_ANK_ROLL">
    <material>Gazebo/Yellow</material>
    <kp>100000.0</kp>
    <kd>100.0</kd>
    <mu1>1.5</mu1>
    <mu2>1.5</mu2>
    <fdir1>1 0 0</fdir1>
    <maxVel>1.0</maxVel>
    <minDepth>0.001</minDepth>
  </gazebo>



<gazebo reference="R_ANK_ROLL">
    <material>Gazebo/Green</material>
    <kp>100000.0</kp>
    <kd>100.0</kd>
    <mu1>1.5</mu1>
    <mu2>1.5</mu2>
    <fdir1>1 0 0</fdir1>
    <maxVel>1.0</maxVel>
    <minDepth>0.001</minDepth>
  </gazebo>


<gazebo reference="">


    <material>Gazebo/Grey</material>

  </gazebo>
</robot>
